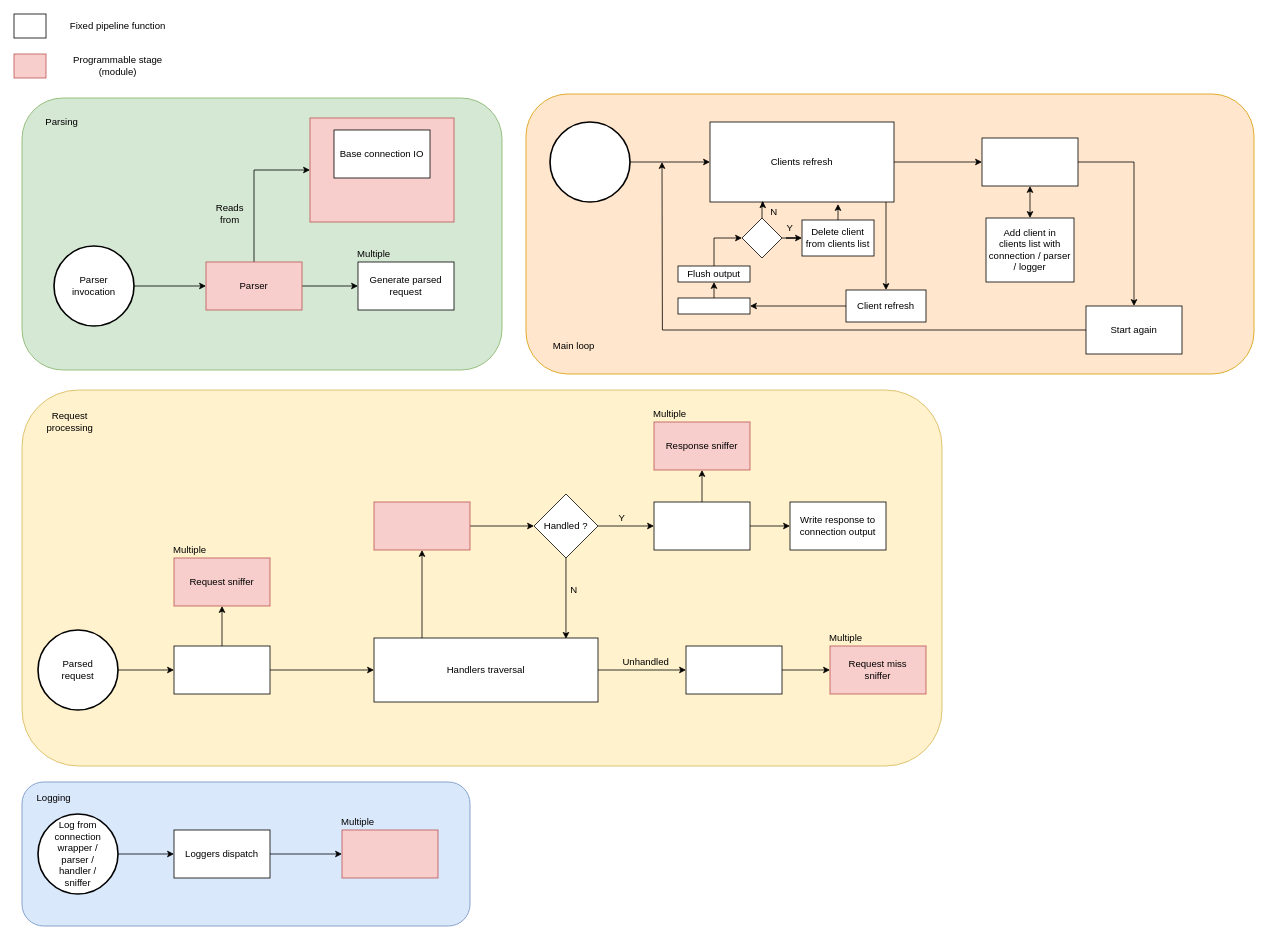
Image size: 1268x940. Some labels were removed from this diagram. Here are the shapes that lost their labels. From the top down, the box of each, then its label:
(309, 117, 454, 222): Optional connection wrapper (SSL / TLS)
(549, 121, 630, 202): Server main loop invocation
(981, 137, 1078, 186): Accept new clients
(741, 217, 782, 258): EOF ?
(677, 297, 750, 314): Invoke parser
(373, 501, 470, 550): Handler
(653, 501, 750, 550): Response sniffers dispatch
(173, 645, 270, 694): Request sniffers dispatch
(685, 645, 782, 694): Miss request sniffers dispatch
(341, 829, 438, 878): Logger
